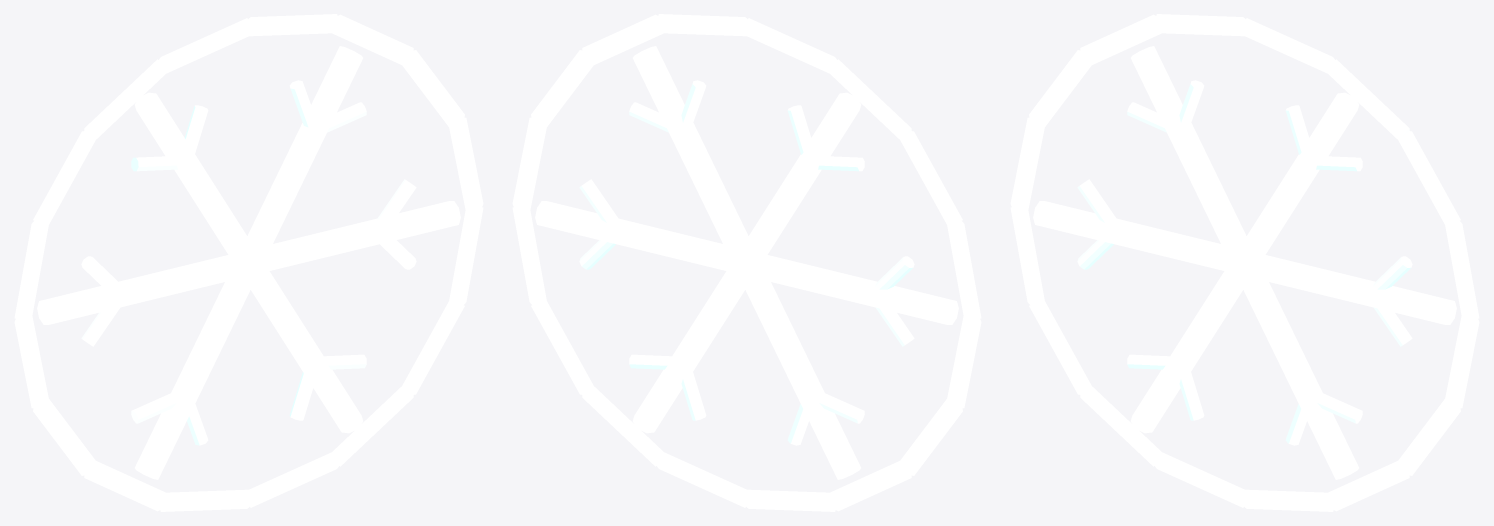
File: winterbloom.glb
3 views of the same model, side by side, from view 1: azimuth 30°, elevation 25°; view 2: azimuth 150°, elevation 25°; view 3: azimuth 330°, elevation 25° (orthographic).
Parts seen in each view (by area): view 1: Winter Bloom dimensional effect.001; view 2: Winter Bloom dimensional effect.001; view 3: Winter Bloom dimensional effect.001.
Boxes of the visible parts, x1,y1,x2,y2 form: Winter Bloom dimensional effect.001: (14, 14, 483, 511); Winter Bloom dimensional effect.001: (512, 14, 981, 511); Winter Bloom dimensional effect.001: (1010, 14, 1479, 511).
Bounding box in the file's own units: 1.83 × 1.83 × 0.09.
